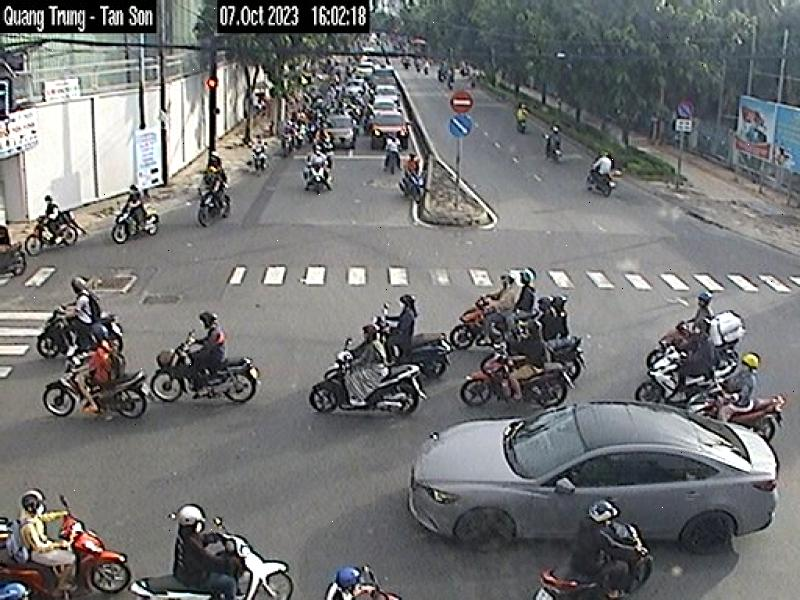car: (407, 399, 780, 551)
motorcycle: (134, 529, 296, 600), (0, 513, 131, 598), (536, 522, 656, 600), (149, 337, 260, 409), (307, 352, 423, 414), (41, 354, 150, 417), (637, 346, 751, 405), (462, 350, 574, 408), (34, 302, 128, 360), (369, 317, 454, 378), (452, 296, 492, 352)
